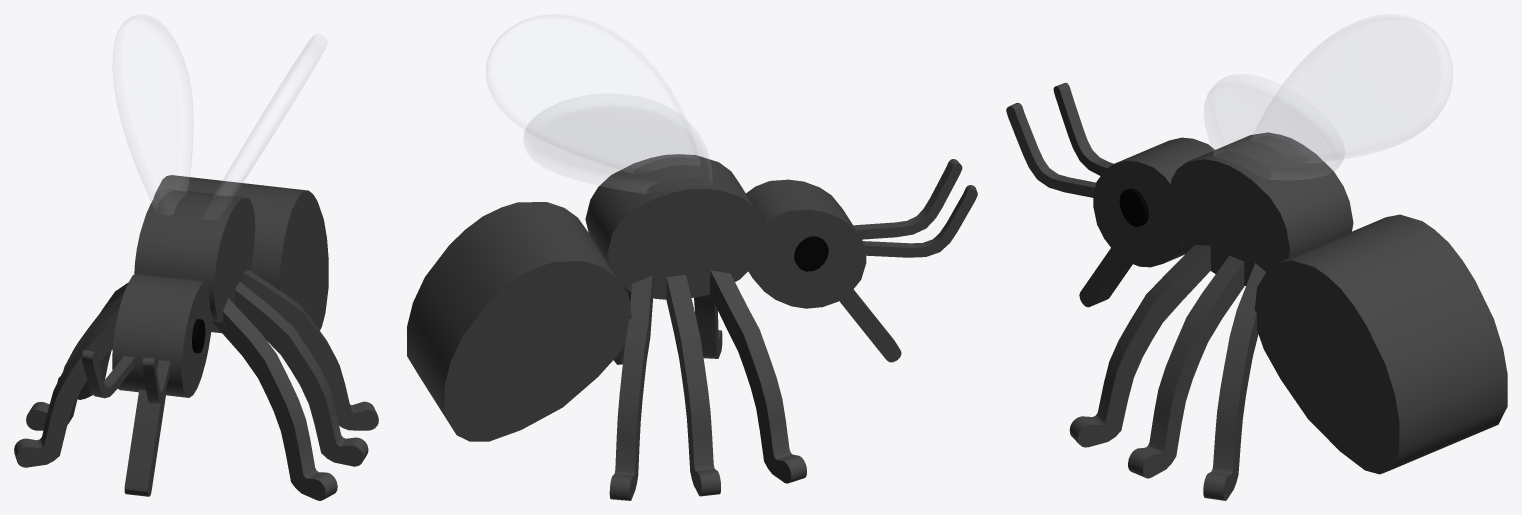
The model's file is mosquito.fbx.
3 renders of one model, left to right at view 1: azimuth 30°, elevation 25°; view 2: azimuth 150°, elevation 25°; view 3: azimuth 270°, elevation 25°, orthographic. The views are drawn at different scales.
Visible parts, largest first — view 1: Cube.160; view 2: Cube.160; view 3: Cube.160.
Boxes of the visible parts, left/top/right/bottom form: Cube.160: left=14, top=14, right=378, bottom=500; Cube.160: left=407, top=14, right=977, bottom=500; Cube.160: left=1006, top=14, right=1507, bottom=500.
Bounding box in the file's own units: 192 × 170 × 192.
2 materials, 1 textured.
